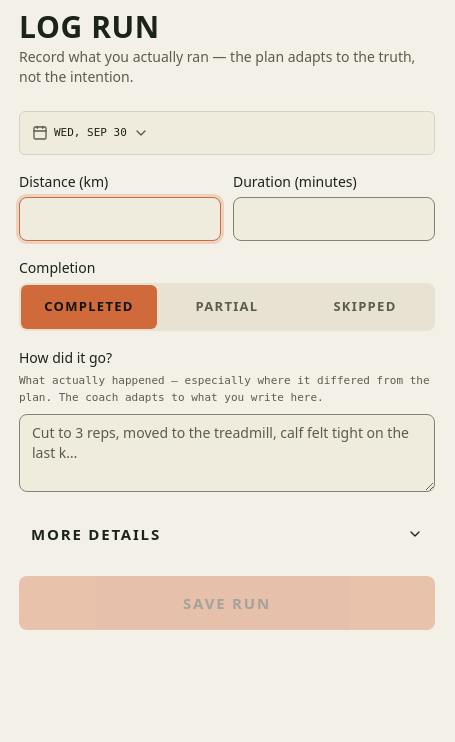
LogPage › shows a form-level alert, reports the error, and does not navigate when the create fails
Type "5" into the field labelled "Distance (km)" at {"x": 120, "y": 219}, box [19,197,221,241]
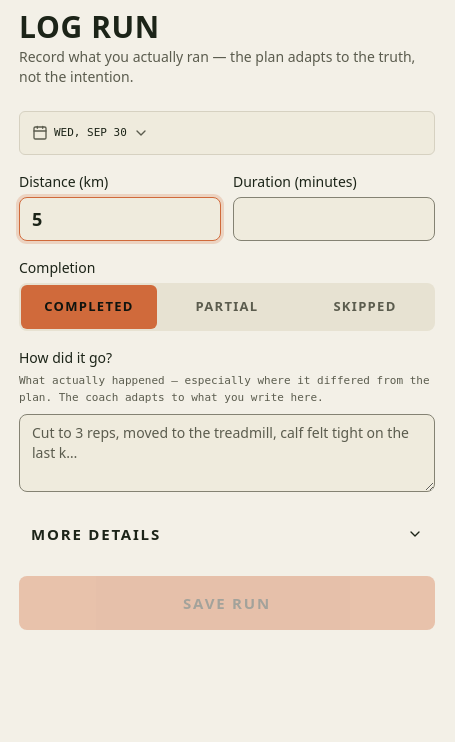
Type "30" into the field labelled "Duration (minutes)" at {"x": 334, "y": 219}, box [233,197,435,241]
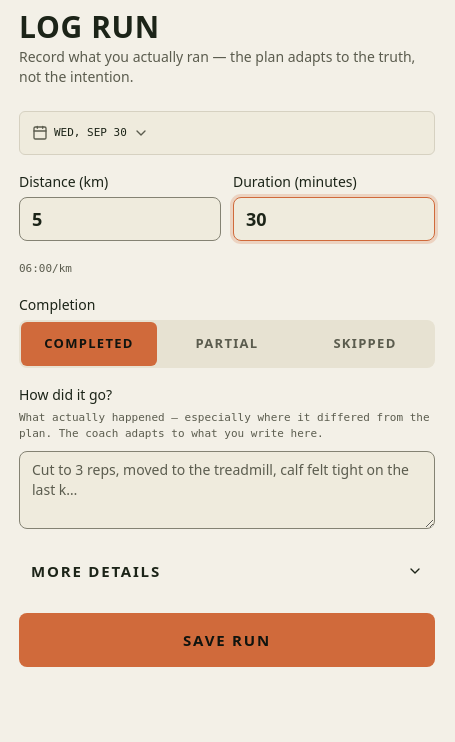
Expected: the button with test id "log-form-submit" is enabled
Click the button with test id "log-form-submit" at {"x": 227, "y": 640}, box [19,612,435,666]
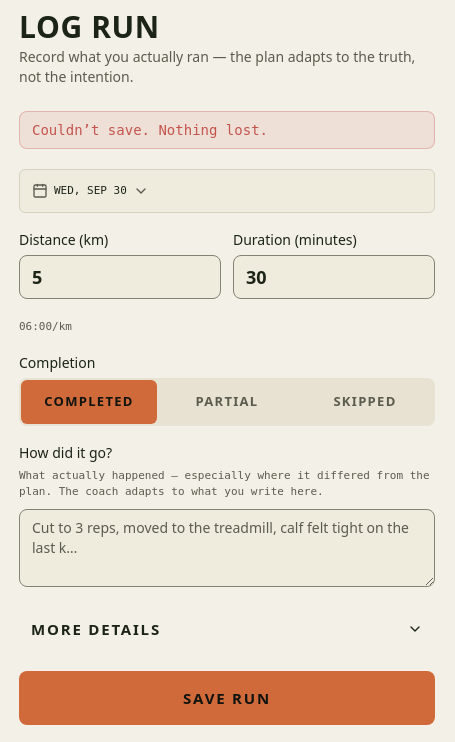
Expected: the message with test id "log-form-alert" reads "Couldn’t save. Nothing lost.", [32,122,268,138]
